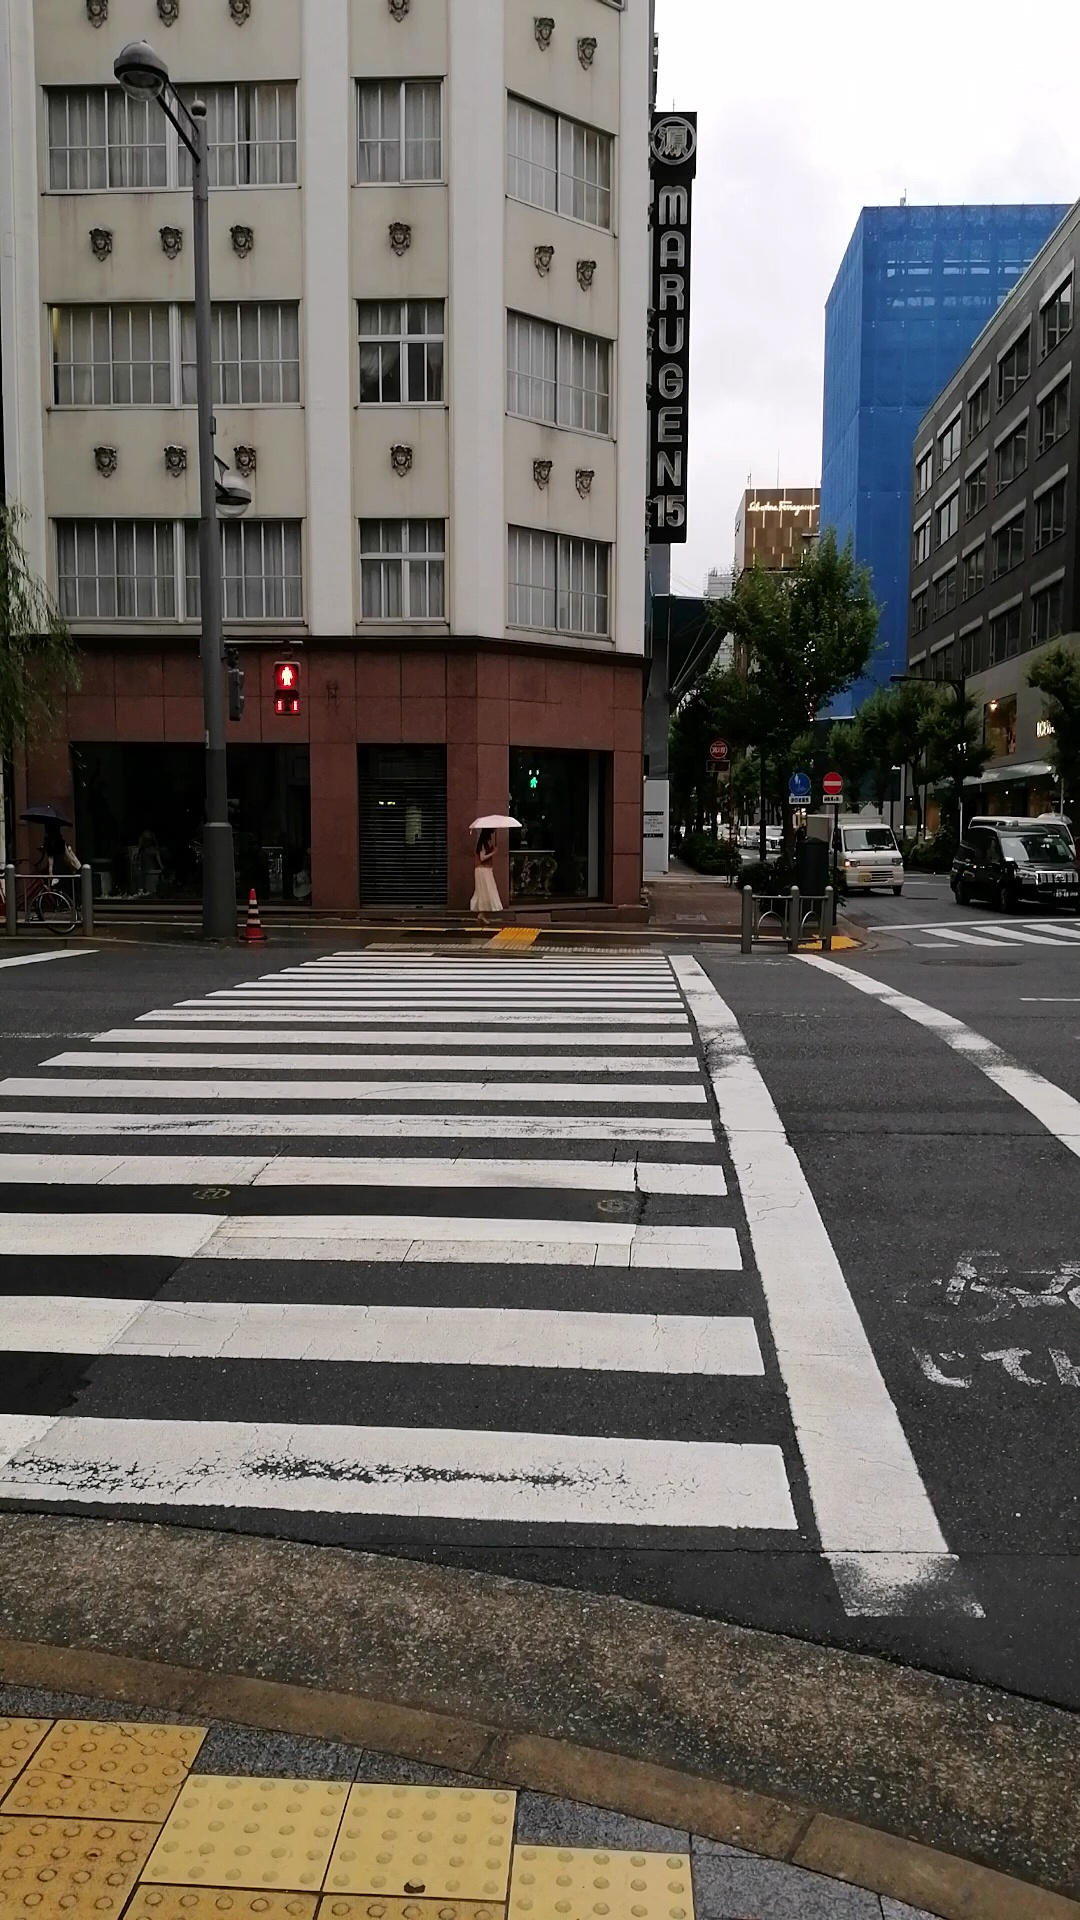red: (272, 659, 303, 717)
